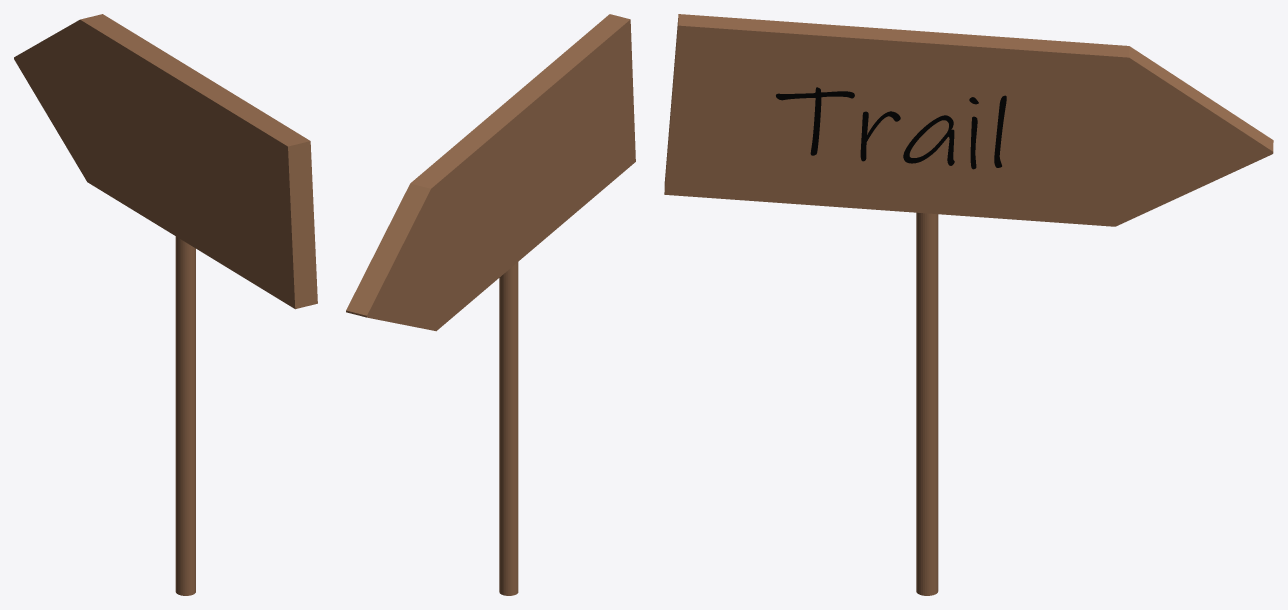
File: trailsign.fbx
The picture shows the model from 3 angles, left to right: view 1: azimuth 30°, elevation 25°; view 2: azimuth 150°, elevation 25°; view 3: azimuth 270°, elevation 25°; orthographic projection. The views are drawn at different scales.
Visible parts, largest first — view 1: Cube, Cylinder; view 2: Cube, Cylinder; view 3: Cube, Cylinder, Text.
Boxes of the visible parts, <box> form: Cube: <box>14,14,317,309</box>; Cylinder: <box>175,236,195,595</box>; Cube: <box>346,14,635,331</box>; Cylinder: <box>499,262,518,595</box>; Cube: <box>664,14,1273,226</box>; Cylinder: <box>916,212,938,595</box>; Text: <box>776,87,1006,169</box>.
Bounding box in the file's own units: 19.75 × 317 × 307.
